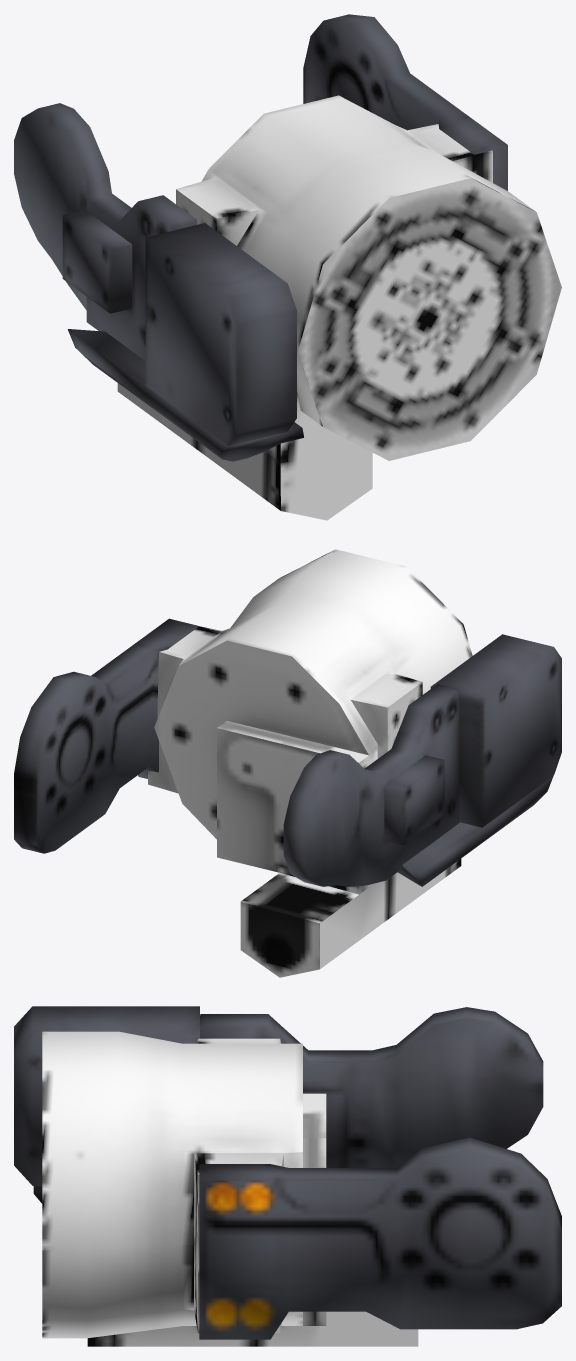
The model's file is r_larm.dae.
3 renders of one model, top to bottom at view 1: azimuth 30°, elevation 25°; view 2: azimuth 150°, elevation 25°; view 3: azimuth 270°, elevation 25°, orthographic. The views are drawn at different scales.
Visible parts, largest first — view 1: r_larm; view 2: r_larm; view 3: r_larm.
Boxes of the visible parts, box(x1,y1,x2,y2) form: r_larm: box(14, 14, 561, 520); r_larm: box(14, 549, 561, 977); r_larm: box(14, 1006, 561, 1346).
Size of the model in its own units: 0.1433 by 0.1854 by 0.1245.
Materials: 1 (1 with a texture image).
